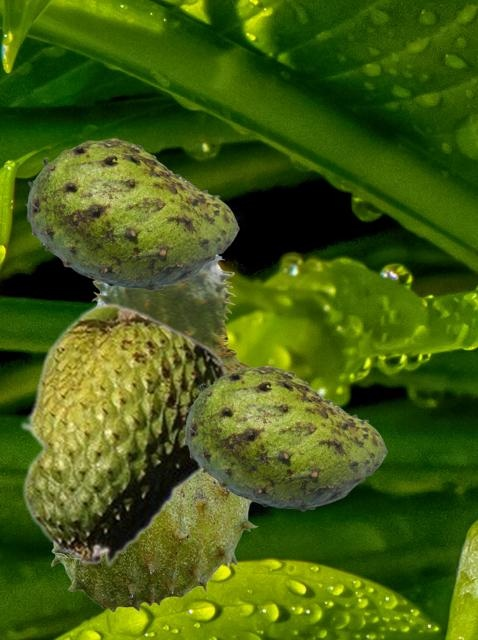guyabano: (19, 302, 230, 568), (25, 138, 238, 290), (183, 365, 386, 510), (50, 473, 259, 611), (91, 255, 251, 372)
